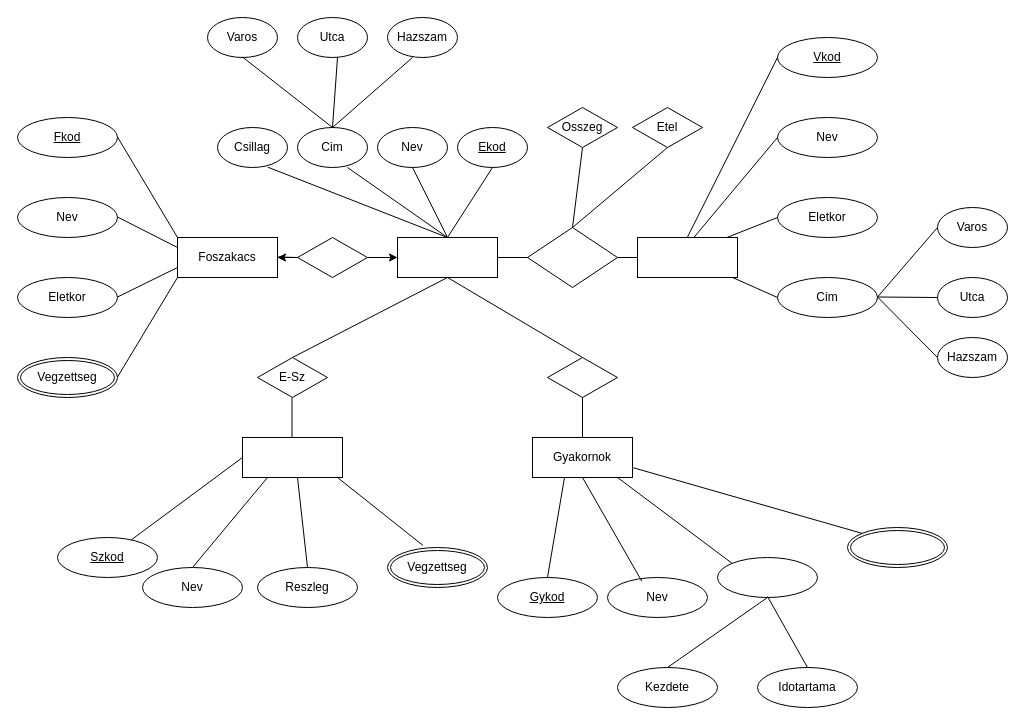
The diagram is 1025 pixels wide and 725 high, and some of its shapes have lost their labels. Each missing label, with the centre of its shape:
"E-F" belongs at point (332, 257).
"E-Gy" belongs at point (582, 377).
"Etterem" belongs at point (447, 257).
"Gyakorlat" belongs at point (767, 577).
"Muszak" belongs at point (897, 547).
"Rendeles" belongs at point (572, 257).
"Szakacs" belongs at point (292, 457).
"Vendeg" belongs at point (687, 257).
